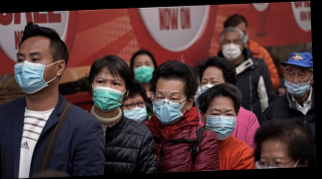mask_weared_incorrect: (284, 66, 312, 96)
with_mask: (12, 48, 58, 94), (151, 86, 188, 124), (90, 74, 126, 112), (203, 105, 237, 141), (121, 96, 148, 123), (218, 36, 244, 60), (132, 57, 156, 82)
